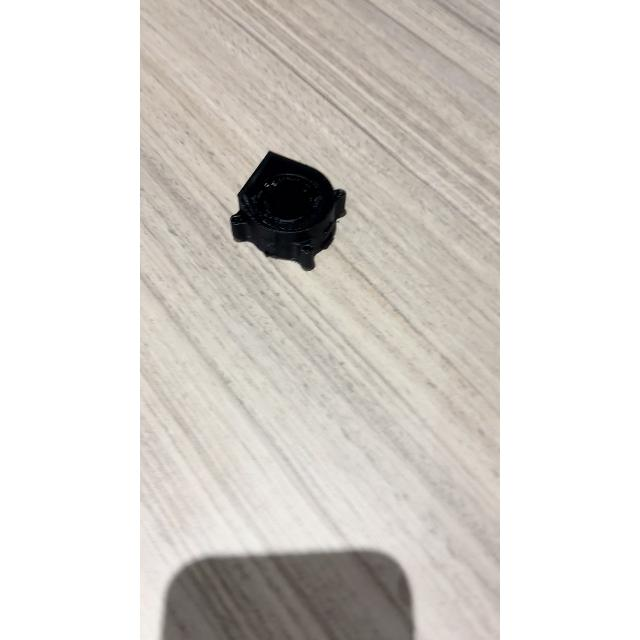Pieza_3: (229, 144, 347, 280)
